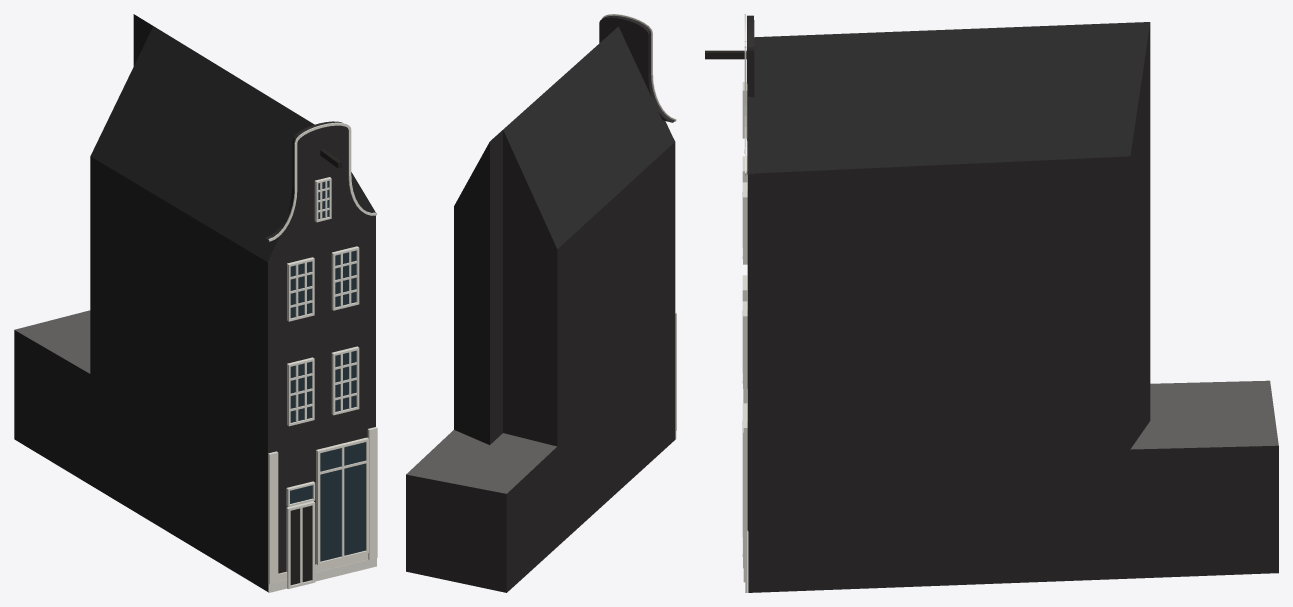
3 views of the same model, side by side, from view 1: azimuth 30°, elevation 25°; view 2: azimuth 150°, elevation 25°; view 3: azimuth 270°, elevation 25° (orthographic). The views are drawn at different scales.
Parts seen in each view (by area): view 1: spec-0363100012178392; view 2: spec-0363100012178392; view 3: spec-0363100012178392.
Boxes of the visible parts, <box> form: spec-0363100012178392: <box>14,14,377,592</box>; spec-0363100012178392: <box>406,14,676,592</box>; spec-0363100012178392: <box>705,14,1278,592</box>.
Bounding box in the file's own units: 5 × 15.3 × 14.74.
